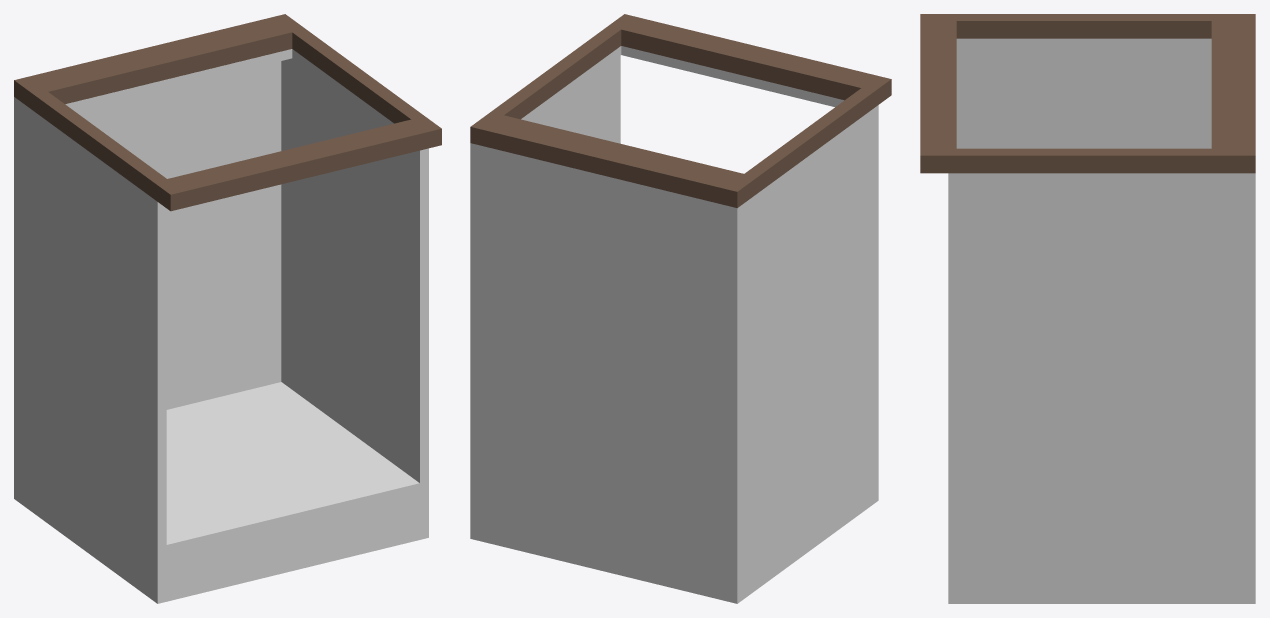
The model's file is Kitchen1_C1_05.fbx.
The picture shows the model from 3 angles, left to right: view 1: azimuth 30°, elevation 25°; view 2: azimuth 150°, elevation 25°; view 3: azimuth 270°, elevation 25°; orthographic projection. The views are drawn at different scales.
Visible parts, largest first — view 1: Kitchen1_C1_05; view 2: Kitchen1_C1_05; view 3: Kitchen1_C1_05.
Part boxes in pixels (x1,y1,x2,y2): Kitchen1_C1_05: [14, 14, 441, 603]; Kitchen1_C1_05: [470, 14, 891, 603]; Kitchen1_C1_05: [920, 14, 1255, 603].
Size of the model in its own units: 60 by 88.5 by 60.
